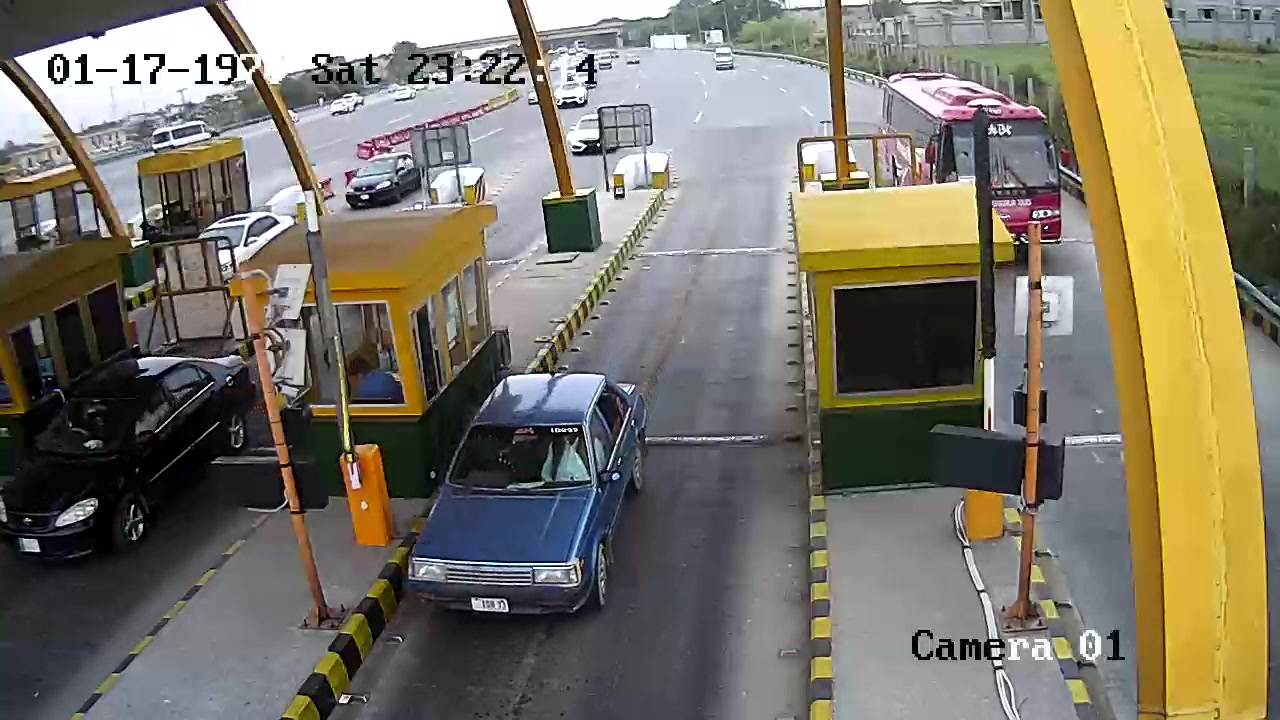F1: (405, 364, 664, 634)
